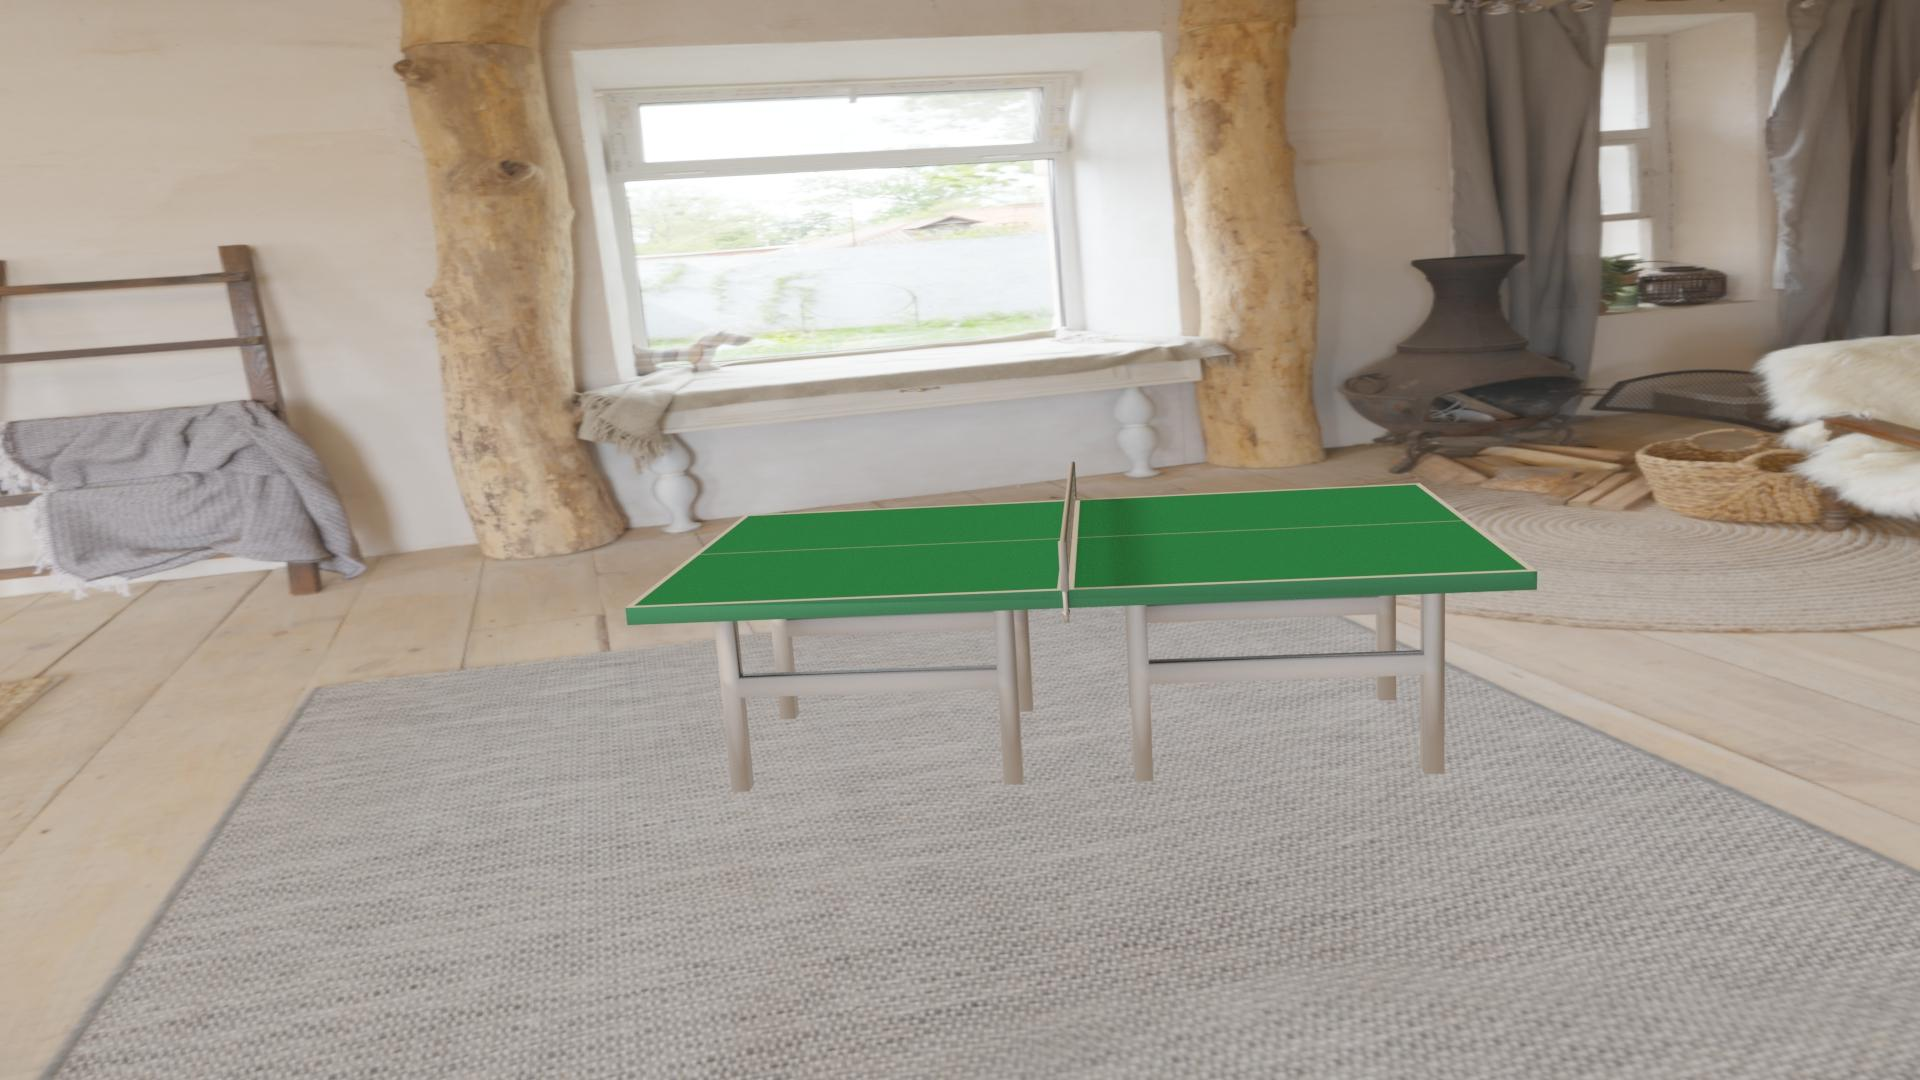table: (633, 484, 1528, 607)
